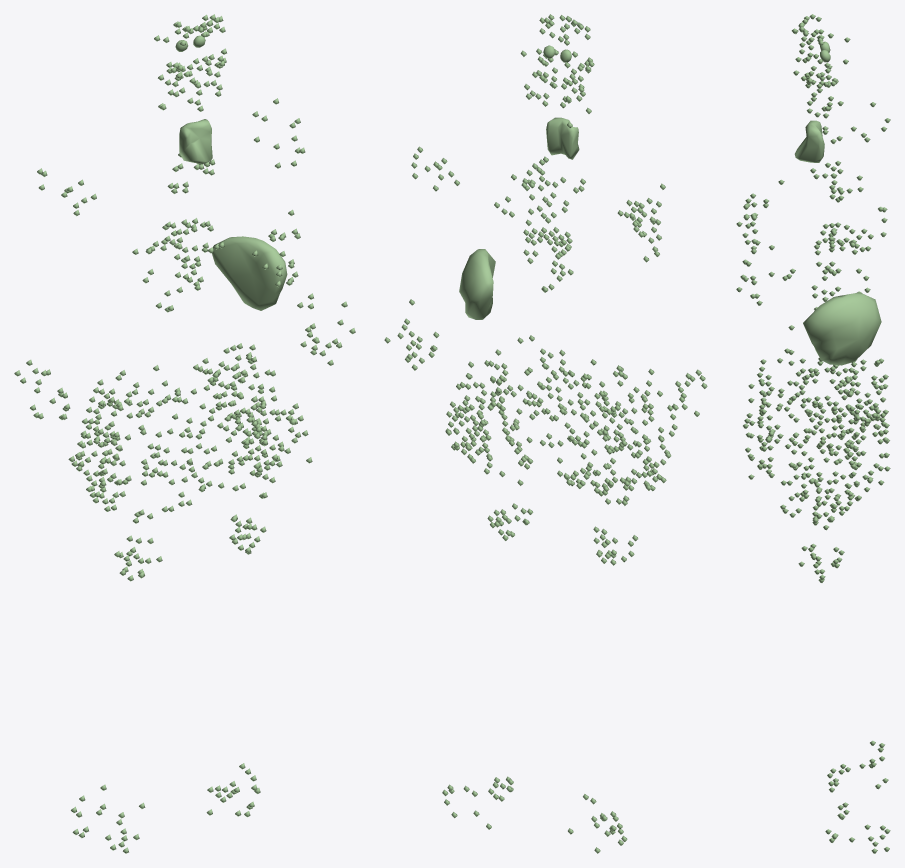
Rendered from pediatric_adolescent_female.lymphatic.LOD2.glb.
3 views of the same model, side by side, from view 1: azimuth 30°, elevation 25°; view 2: azimuth 150°, elevation 25°; view 3: azimuth 270°, elevation 25° (orthographic). The views are drawn at different scales.
Visible parts, largest first — view 1: PEDIATRIC.ADOLESCENT.FEMALE.LYMPHATIC.LYMPHATIC_NODES_TRUNK, PEDIATRIC.ADOLESCENT.FEMALE.LYMPHATIC.SPLEEN, PEDIATRIC.ADOLESCENT.FEMALE.LYMPHATIC.LYMPHATIC_NODES_THORAC, PEDIATRIC.ADOLESCENT.FEMALE.LYMPHATIC.THYMUS, PEDIATRIC.ADOLESCENT.FEMALE.LYMPHATIC.LYMPHATIC_NODES_ET, PEDIATRIC.ADOLESCENT.FEMALE.LYMPHATIC.LYMPHATIC_NODES_LEGS, PEDIATRIC.ADOLESCENT.FEMALE.LYMPHATIC.LYMPHATIC_NODES_ARMS; view 2: PEDIATRIC.ADOLESCENT.FEMALE.LYMPHATIC.LYMPHATIC_NODES_TRUNK, PEDIATRIC.ADOLESCENT.FEMALE.LYMPHATIC.SPLEEN, PEDIATRIC.ADOLESCENT.FEMALE.LYMPHATIC.LYMPHATIC_NODES_THORAC, PEDIATRIC.ADOLESCENT.FEMALE.LYMPHATIC.LYMPHATIC_NODES_ET, PEDIATRIC.ADOLESCENT.FEMALE.LYMPHATIC.THYMUS, PEDIATRIC.ADOLESCENT.FEMALE.LYMPHATIC.LYMPHATIC_NODES_ARMS, PEDIATRIC.ADOLESCENT.FEMALE.LYMPHATIC.LYMPHATIC_NODES_LEGS; view 3: PEDIATRIC.ADOLESCENT.FEMALE.LYMPHATIC.LYMPHATIC_NODES_TRUNK, PEDIATRIC.ADOLESCENT.FEMALE.LYMPHATIC.SPLEEN, PEDIATRIC.ADOLESCENT.FEMALE.LYMPHATIC.LYMPHATIC_NODES_THORAC, PEDIATRIC.ADOLESCENT.FEMALE.LYMPHATIC.LYMPHATIC_NODES_ET, PEDIATRIC.ADOLESCENT.FEMALE.LYMPHATIC.THYMUS, PEDIATRIC.ADOLESCENT.FEMALE.LYMPHATIC.LYMPHATIC_NODES_LEGS, PEDIATRIC.ADOLESCENT.FEMALE.LYMPHATIC.LYMPHATIC_NODES_ARMS, PEDIATRIC.ADOLESCENT.FEMALE.LYMPHATIC.LYMPHATIC_NODES_HEAD.
Boxes of the visible parts, left/top/right/bottom form: PEDIATRIC.ADOLESCENT.FEMALE.LYMPHATIC.LYMPHATIC_NODES_TRUNK: left=37, top=98, right=312, bottom=581; PEDIATRIC.ADOLESCENT.FEMALE.LYMPHATIC.SPLEEN: left=212, top=236, right=287, bottom=310; PEDIATRIC.ADOLESCENT.FEMALE.LYMPHATIC.LYMPHATIC_NODES_THORAC: left=145, top=153, right=224, bottom=290; PEDIATRIC.ADOLESCENT.FEMALE.LYMPHATIC.THYMUS: left=179, top=119, right=212, bottom=164; PEDIATRIC.ADOLESCENT.FEMALE.LYMPHATIC.LYMPHATIC_NODES_ET: left=154, top=14, right=226, bottom=83; PEDIATRIC.ADOLESCENT.FEMALE.LYMPHATIC.LYMPHATIC_NODES_LEGS: left=71, top=763, right=260, bottom=853; PEDIATRIC.ADOLESCENT.FEMALE.LYMPHATIC.LYMPHATIC_NODES_ARMS: left=14, top=293, right=355, bottom=419; PEDIATRIC.ADOLESCENT.FEMALE.LYMPHATIC.LYMPHATIC_NODES_TRUNK: left=411, top=146, right=671, bottom=565; PEDIATRIC.ADOLESCENT.FEMALE.LYMPHATIC.SPLEEN: left=459, top=249, right=495, bottom=319; PEDIATRIC.ADOLESCENT.FEMALE.LYMPHATIC.LYMPHATIC_NODES_THORAC: left=521, top=156, right=585, bottom=292; PEDIATRIC.ADOLESCENT.FEMALE.LYMPHATIC.LYMPHATIC_NODES_ET: left=520, top=14, right=594, bottom=89; PEDIATRIC.ADOLESCENT.FEMALE.LYMPHATIC.THYMUS: left=546, top=117, right=579, bottom=159; PEDIATRIC.ADOLESCENT.FEMALE.LYMPHATIC.LYMPHATIC_NODES_ARMS: left=384, top=299, right=707, bottom=436; PEDIATRIC.ADOLESCENT.FEMALE.LYMPHATIC.LYMPHATIC_NODES_LEGS: left=442, top=776, right=627, bottom=853; PEDIATRIC.ADOLESCENT.FEMALE.LYMPHATIC.LYMPHATIC_NODES_TRUNK: left=736, top=102, right=890, bottom=582; PEDIATRIC.ADOLESCENT.FEMALE.LYMPHATIC.SPLEEN: left=803, top=292, right=881, bottom=365; PEDIATRIC.ADOLESCENT.FEMALE.LYMPHATIC.LYMPHATIC_NODES_THORAC: left=810, top=161, right=865, bottom=296; PEDIATRIC.ADOLESCENT.FEMALE.LYMPHATIC.LYMPHATIC_NODES_ET: left=791, top=14, right=850, bottom=88; PEDIATRIC.ADOLESCENT.FEMALE.LYMPHATIC.THYMUS: left=794, top=120, right=824, bottom=162; PEDIATRIC.ADOLESCENT.FEMALE.LYMPHATIC.LYMPHATIC_NODES_LEGS: left=825, top=740, right=890, bottom=853; PEDIATRIC.ADOLESCENT.FEMALE.LYMPHATIC.LYMPHATIC_NODES_ARMS: left=811, top=261, right=870, bottom=462; PEDIATRIC.ADOLESCENT.FEMALE.LYMPHATIC.LYMPHATIC_NODES_HEAD: left=805, top=65, right=843, bottom=118.
Bounding box in the file's own units: 0.4373 × 1.08 × 0.1885.
